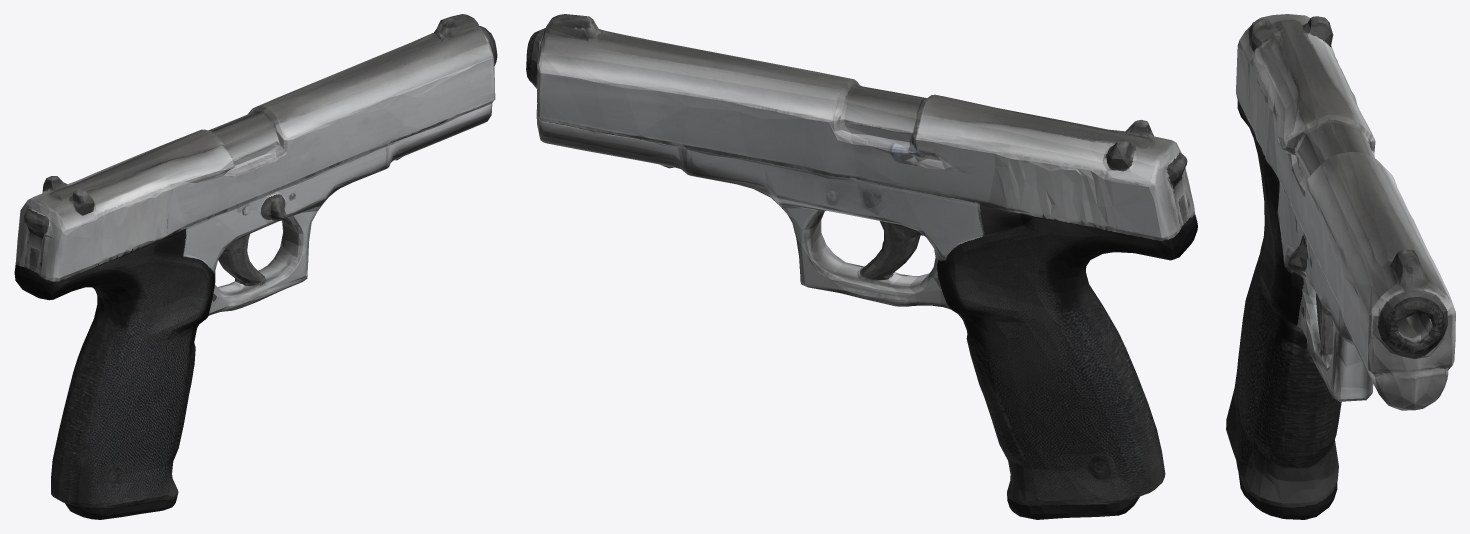
File: pistol_b.fbx
3 renders of one model, left to right at view 1: azimuth 30°, elevation 25°; view 2: azimuth 150°, elevation 25°; view 3: azimuth 270°, elevation 25°, orthographic. The views are drawn at different scales.
Visible parts, largest first — view 1: Mesh_0; view 2: Mesh_0; view 3: Mesh_0.
Boxes of the visible parts, x1,y1,x2,y2 form: Mesh_0: [14, 14, 497, 519]; Mesh_0: [526, 14, 1197, 519]; Mesh_0: [1226, 14, 1455, 519].
Size of the model in its own units: 0.217 by 0.15 by 0.0652.
Materials: 1 (1 with a texture image).
